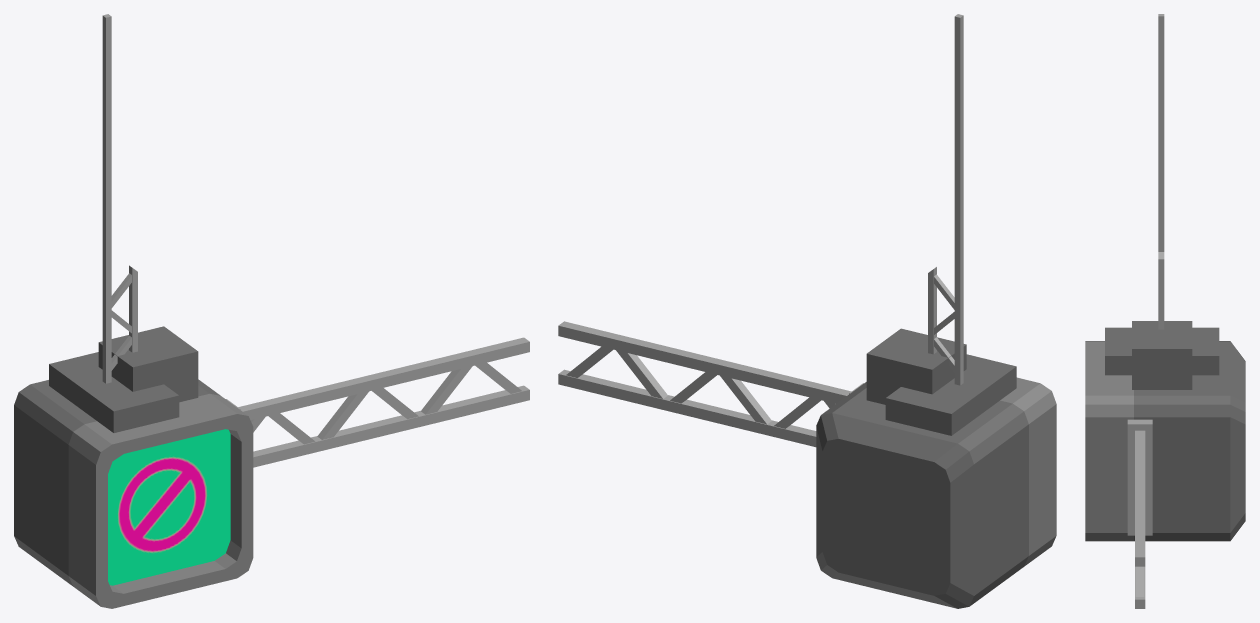
The picture shows the model from 3 angles, left to right: view 1: azimuth 30°, elevation 25°; view 2: azimuth 150°, elevation 25°; view 3: azimuth 270°, elevation 25°; orthographic projection. The views are drawn at different scales.
Parts seen in each view (by area): view 1: TV_1; view 2: TV_1; view 3: TV_1.
Boxes of the visible parts, box(x1,y1,x2,y2) form: TV_1: box(14, 14, 529, 608); TV_1: box(558, 14, 1056, 608); TV_1: box(1085, 14, 1245, 608).
Bounding box in the file's own units: 1.2 × 1.38 × 0.4096.
4 materials, 1 textured.
